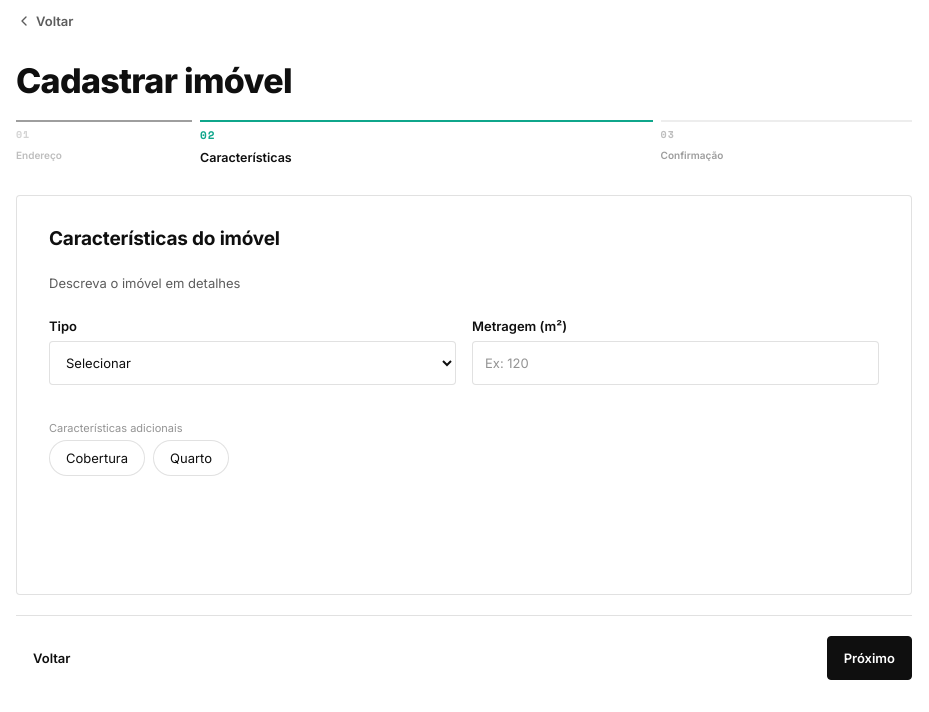
Test: PropertyWizard Component › shows the Quantos field only after clicking the quarto chip
The image size is (929, 712).
Expected: the field labelled "Quantos" is not shown
Click the button "Quarto" at (191, 458), box [153,440,229,476]
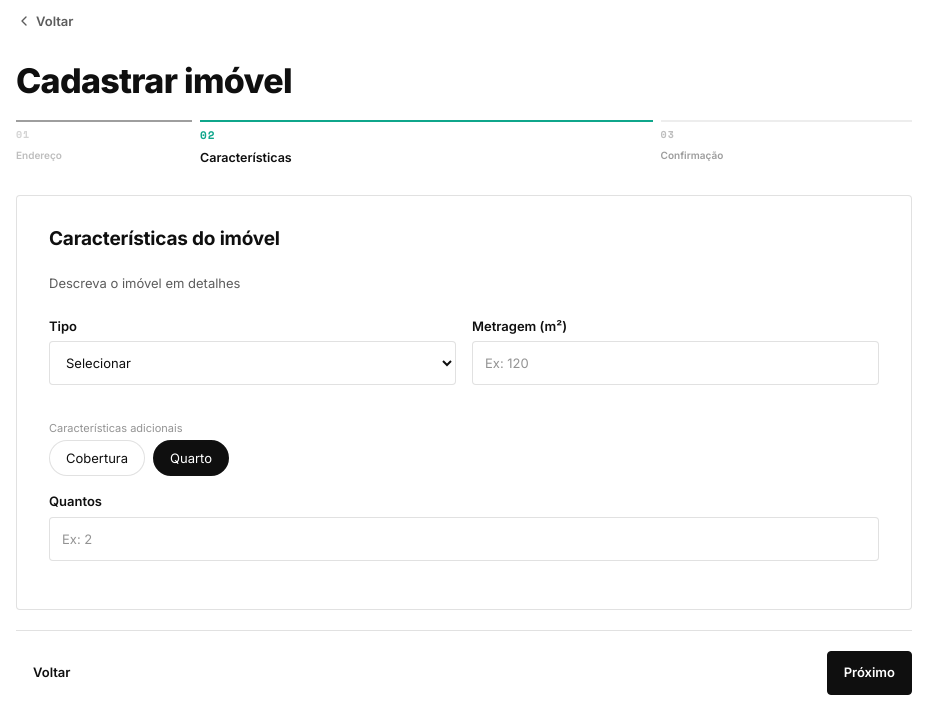
Now the number field labelled "Quantos" is shown, box [49,516,879,560]
